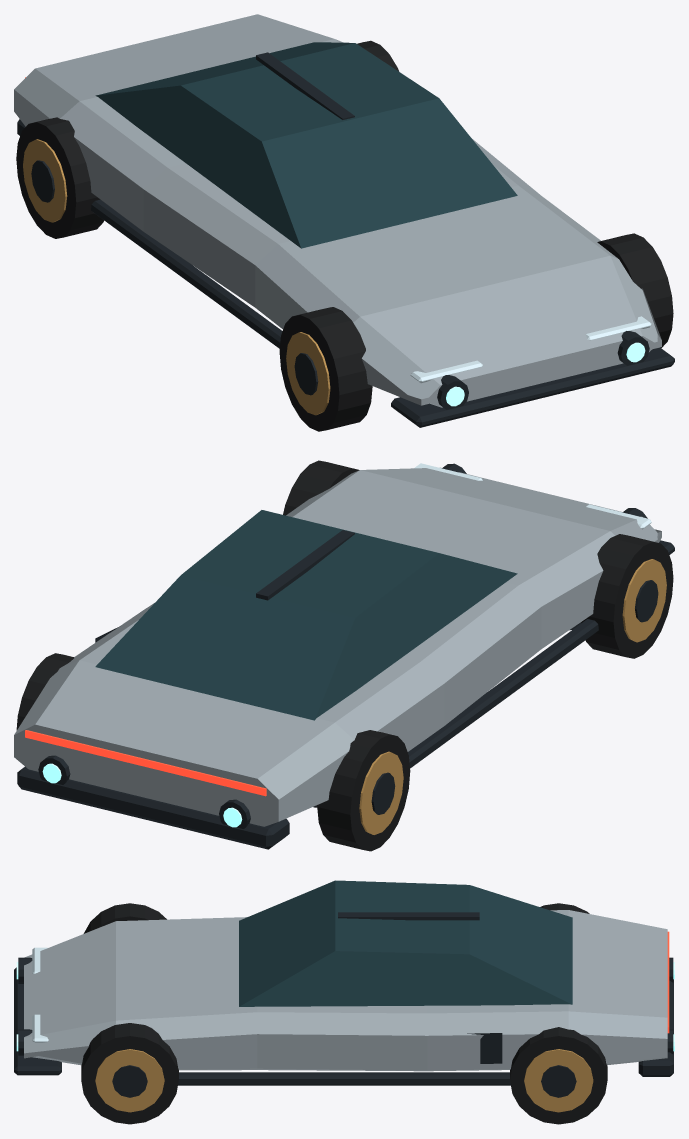
File: AstraWedge.fbx
3 views of the same model, one above another, from view 1: azimuth 30°, elevation 25°; view 2: azimuth 150°, elevation 25°; view 3: azimuth 270°, elevation 25° (orthographic). The views are drawn at different scales.
Visible parts, largest first — view 1: WedgeBody, Canopy, Wheel, Wheel.001, FrontSplitter, SideSill, Wheel.002, AeroWheelCover.001, AeroWheelCover, RoofSpine, WheelHub.001, WheelHub; view 2: WedgeBody, Canopy, RearDiffuser, Wheel, Wheel.001, SideSill, RearLightBar, AeroWheelCover, AeroWheelCover.001, Wheel.002, RoofSpine, Wheel.003 (+2 smaller); view 3: WedgeBody, Canopy, SideSill.001, Wheel.002, Wheel.003, AeroWheelCover.002, AeroWheelCover.003, FrontSplitter, RoofSpine, Wheel, RearDiffuser, WheelHub.002 (+2 smaller).
Boxes of the visible parts, x1,y1,x2,y2 form: WedgeBody: (14, 14, 661, 407); Canopy: (95, 42, 517, 248); Wheel: (279, 307, 372, 431); Wheel.001: (16, 117, 103, 238); FrontSplitter: (391, 347, 674, 427); SideSill: (91, 199, 282, 348); Wheel.002: (597, 233, 673, 348); AeroWheelCover.001: (23, 139, 67, 222); AeroWheelCover: (286, 332, 330, 415); RoofSpine: (256, 52, 354, 119); WheelHub.001: (31, 160, 54, 202); WheelHub: (294, 353, 318, 395); WedgeBody: (14, 467, 661, 826); Canopy: (95, 510, 517, 720); RearDiffuser: (17, 766, 289, 849); Wheel: (581, 534, 673, 658); Wheel.001: (317, 730, 410, 851); SideSill: (407, 619, 598, 768); RearLightBar: (25, 730, 266, 796); AeroWheelCover: (622, 559, 666, 642); AeroWheelCover.001: (359, 751, 403, 834); Wheel.002: (283, 460, 359, 515); RoofSpine: (256, 530, 354, 600); Wheel.003: (16, 653, 74, 730); WedgeBody: (24, 910, 667, 1071); Canopy: (239, 880, 572, 1006); SideSill.001: (178, 1072, 510, 1085); Wheel.002: (81, 1023, 178, 1124); Wheel.003: (510, 1027, 607, 1124); AeroWheelCover.002: (95, 1049, 164, 1112); AeroWheelCover.003: (524, 1049, 593, 1112); FrontSplitter: (14, 967, 61, 1075); RoofSpine: (338, 912, 479, 920); Wheel: (83, 903, 166, 933); RearDiffuser: (638, 979, 673, 1076); WheelHub.002: (112, 1065, 147, 1097).
Bounding box in the file's own units: 13.19 × 6.48 × 27.09.
